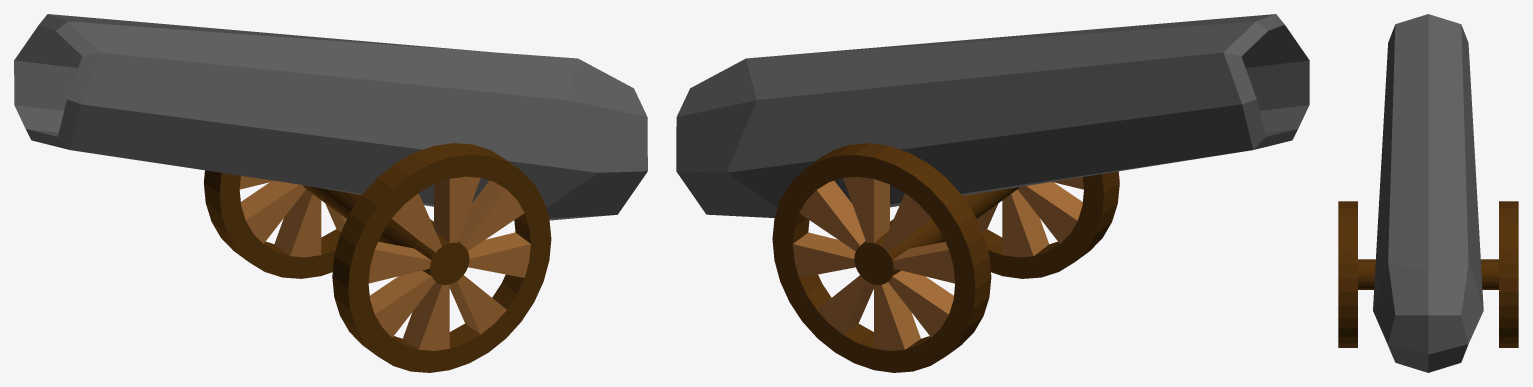
The model's file is cañon.fbx.
3 views of the same model, side by side, from view 1: azimuth 30°, elevation 25°; view 2: azimuth 150°, elevation 25°; view 3: azimuth 270°, elevation 25° (orthographic). The views are drawn at different scales.
Visible parts, largest first — view 1: Cube; view 2: Cube; view 3: Cube.
Boxes of the visible parts, bbox=[...] form: Cube: bbox=[14, 14, 647, 372]; Cube: bbox=[676, 14, 1309, 372]; Cube: bbox=[1338, 14, 1518, 372].
Bounding box in the file's own units: 1083 × 630 × 444.
